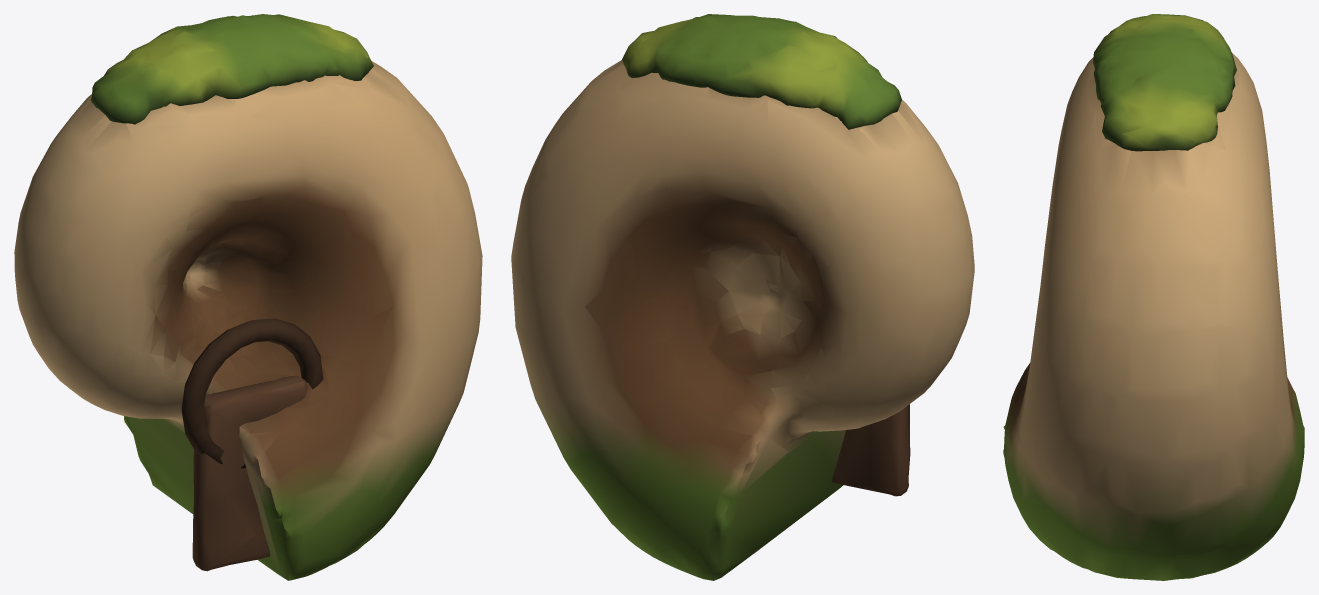
The model's file is mire_snail_shell_b_lod1.glb.
3 renders of one model, left to right at view 1: azimuth 30°, elevation 25°; view 2: azimuth 150°, elevation 25°; view 3: azimuth 270°, elevation 25°, orthographic. The views are drawn at different scales.
Parts seen in each view (by area): view 1: mire_snail_shell_b.001; view 2: mire_snail_shell_b.001; view 3: mire_snail_shell_b.001.
Part boxes in pixels (left/top/right/bottom): mire_snail_shell_b.001: left=14, top=14, right=482, bottom=580; mire_snail_shell_b.001: left=511, top=14, right=974, bottom=580; mire_snail_shell_b.001: left=1003, top=14, right=1304, bottom=580.
Bounding box in the file's own units: 8.06 × 8.81 × 5.03.
